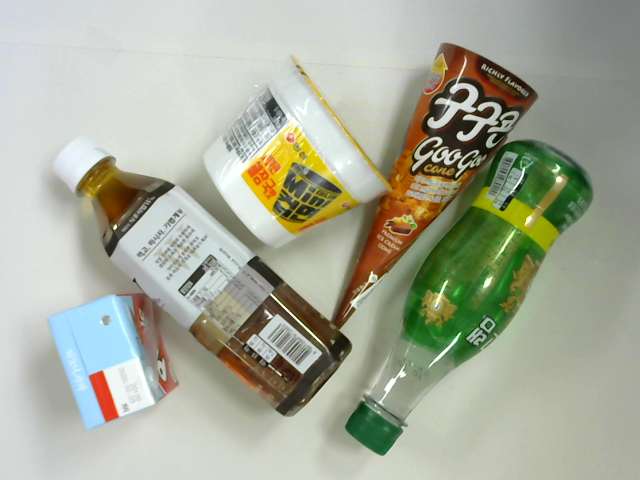GooGoo_Cone_CVS: (326, 39, 539, 340)
Hejangmini: (203, 66, 387, 247)
Picnic_Apple: (47, 294, 184, 428)
Post-meal_recipe_W_tea_500ml: (50, 131, 354, 421)
Seagram_Lemon_Carbonated_Water: (349, 142, 596, 458)
